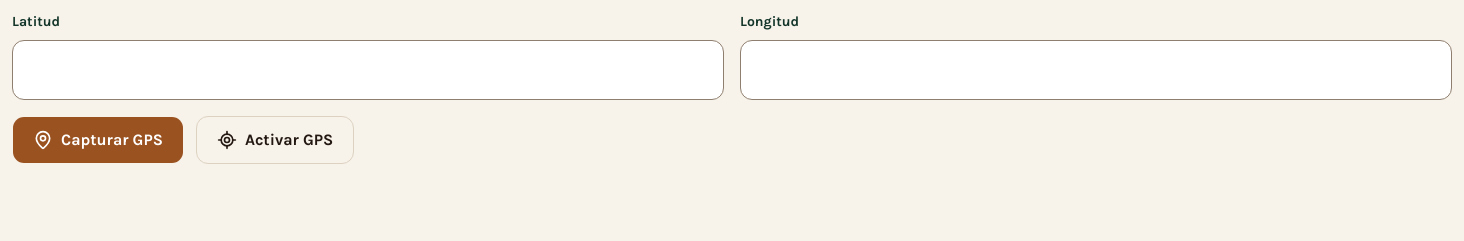
Test case: farm location capture › shows the GPS error without hiding manual entry
Click the button "Capturar GPS". click: (98, 140)
box: [12,116,184,164]
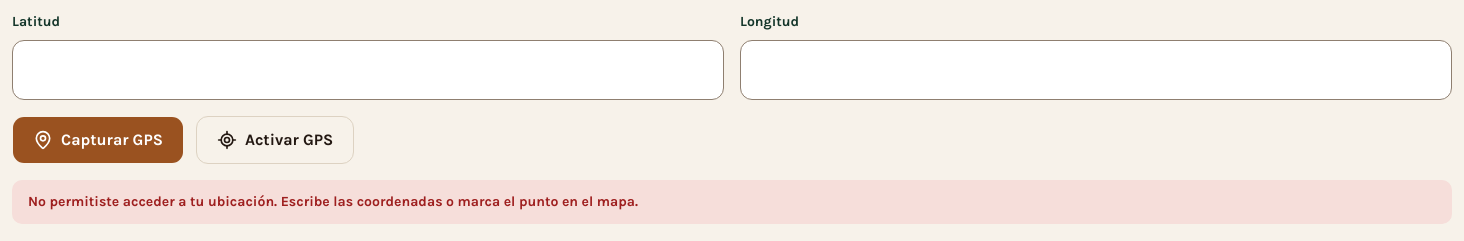
Expected: the field labelled "Latitud" is enabled, [12,40,724,100]
Expected: the message shows "No permitiste acceder a tu ubicación.", [28,193,638,210]
